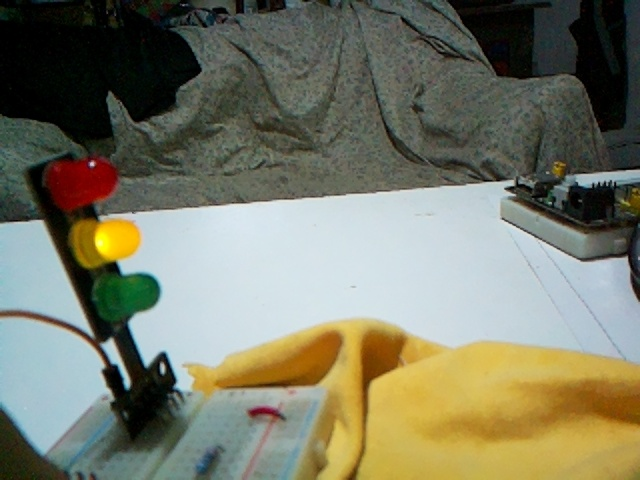traffic_light_yellow: (34, 156, 183, 436)
